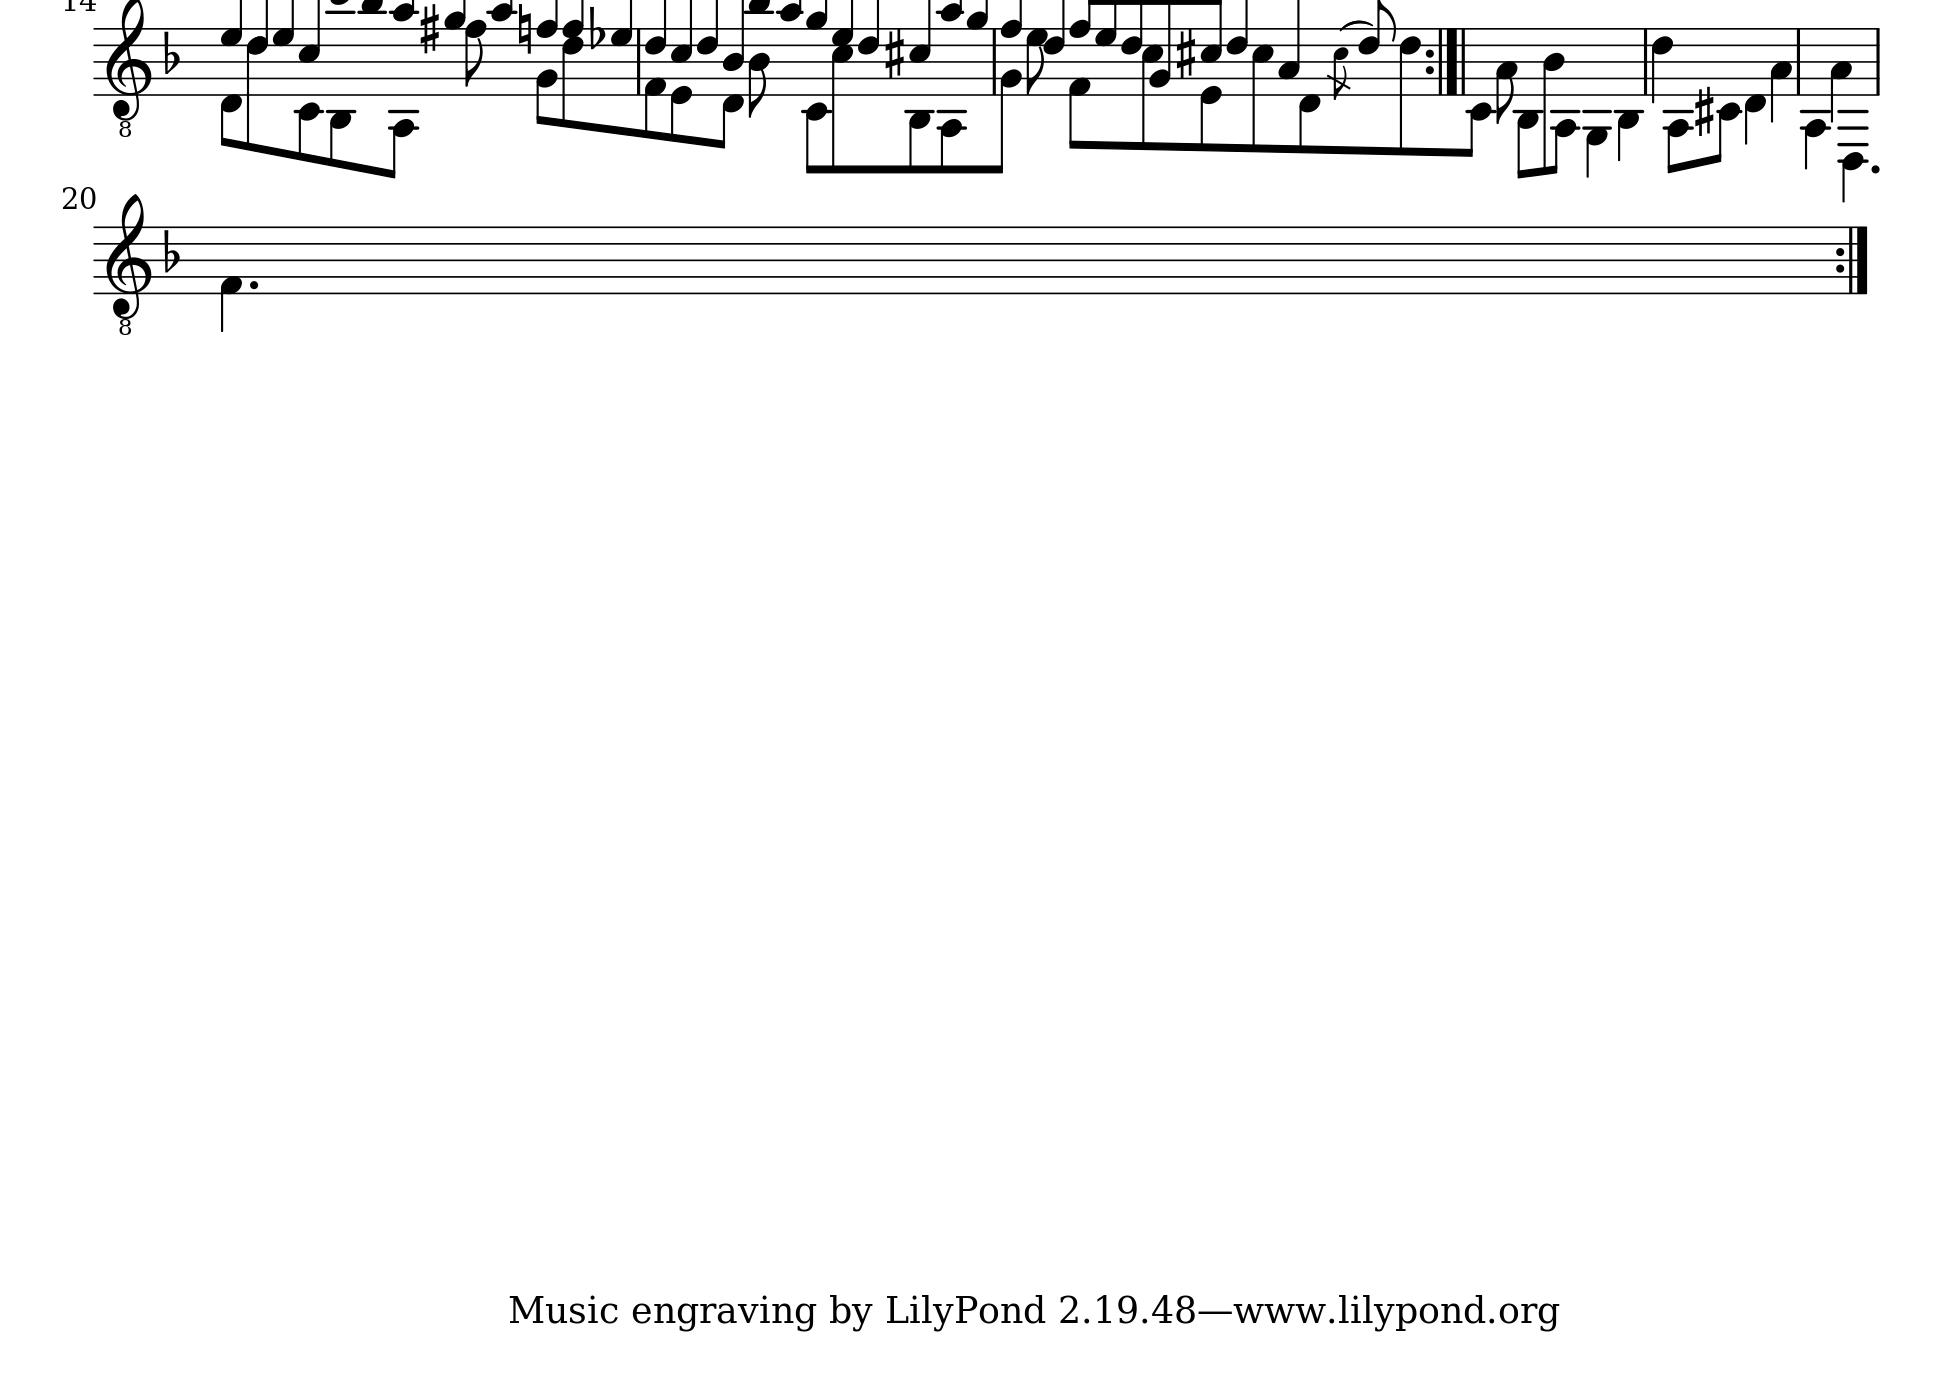0: (79, 183, 96, 211)
2: (60, 184, 78, 211)
4_-3: (1614, 25, 1641, 168)
4_-5: (1584, 25, 1611, 178)
4_1: (217, 225, 243, 331)
4_6: (1651, 25, 1674, 103)
8_-1: (1743, 27, 1767, 150), (1299, 24, 1321, 154)
8_-2: (1462, 27, 1494, 160)
8_-3: (327, 27, 354, 168)
8_-4: (382, 27, 420, 178), (1545, 25, 1579, 178), (1662, 28, 1692, 175)
8_3: (1770, 28, 1794, 124), (1497, 27, 1519, 127)
8_5: (1251, 18, 1275, 151)
8_6: (1398, 24, 1423, 154), (1225, 1, 1248, 100)
8_8: (463, 19, 487, 96)
Flat: (160, 226, 181, 274), (160, 28, 181, 75), (588, 4, 604, 49)
Lower_Gclef: (103, 193, 151, 336), (103, 1, 151, 138)
Natural: (517, 3, 532, 57)
RightRepeatSign: (1423, 25, 1470, 94), (1833, 225, 1872, 294)
Sharp: (1713, 22, 1743, 166), (418, 3, 439, 55), (883, 27, 904, 79), (1695, 85, 1714, 138)
Single_barline: (1638, 27, 1654, 94), (1791, 28, 1807, 94), (1869, 27, 1884, 96), (987, 28, 1002, 94)
Slur: (1339, 19, 1374, 31)
dot: (1869, 160, 1882, 175), (246, 277, 259, 292)
